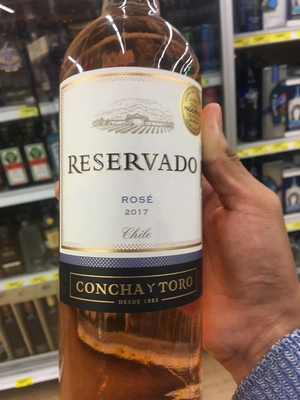reservado rose: (54, 14, 208, 400)
